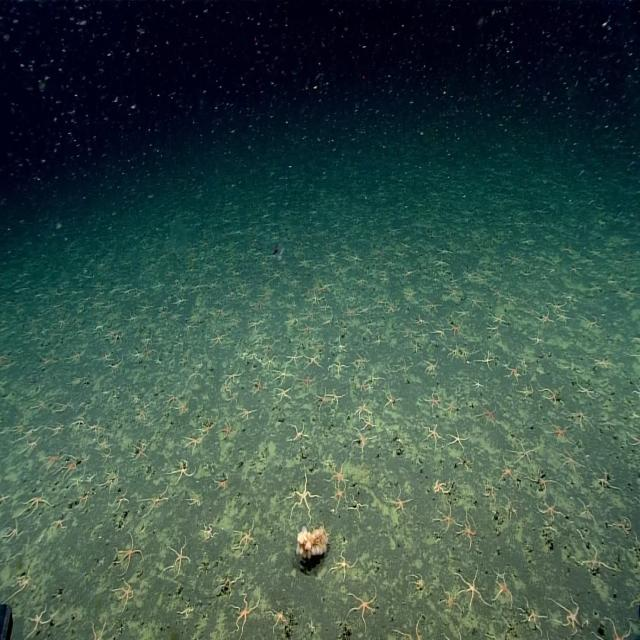brittle-stars: (289, 468, 316, 520), (230, 590, 258, 633), (457, 568, 485, 610), (347, 588, 377, 627), (525, 454, 554, 492), (577, 543, 614, 571), (552, 597, 582, 631), (165, 539, 191, 578), (115, 534, 142, 571), (232, 520, 258, 558), (144, 484, 168, 518), (331, 550, 357, 581), (113, 574, 136, 608), (434, 504, 458, 536), (440, 584, 462, 617), (28, 601, 50, 633), (494, 571, 514, 606), (23, 491, 51, 515), (388, 487, 411, 516), (458, 515, 478, 548), (173, 455, 194, 484), (560, 447, 580, 476), (538, 384, 562, 408), (538, 498, 563, 521), (433, 473, 455, 499), (571, 409, 597, 431), (61, 457, 81, 484), (267, 603, 287, 630), (12, 569, 31, 597), (290, 419, 312, 443), (591, 468, 613, 492), (350, 431, 375, 452), (330, 456, 347, 486), (326, 386, 348, 409), (547, 295, 569, 317), (546, 418, 568, 440), (497, 458, 516, 483), (19, 422, 42, 442), (131, 438, 150, 462), (423, 390, 442, 414), (448, 428, 468, 450), (479, 403, 498, 426), (578, 497, 596, 521), (576, 380, 596, 401), (333, 484, 349, 509), (383, 388, 398, 414), (52, 514, 70, 535), (185, 433, 203, 454), (275, 362, 293, 383), (329, 358, 348, 377), (202, 520, 217, 544), (250, 376, 268, 396), (505, 363, 522, 384), (213, 471, 230, 492), (426, 426, 442, 448), (478, 348, 494, 370), (199, 415, 215, 436), (262, 351, 278, 372), (304, 351, 320, 372), (354, 350, 369, 372), (238, 404, 256, 422), (424, 357, 439, 378), (102, 472, 120, 489), (353, 400, 369, 419), (333, 334, 348, 354), (518, 384, 535, 401), (286, 348, 302, 366), (276, 386, 292, 404), (212, 330, 226, 350), (226, 366, 241, 384), (444, 399, 458, 418), (448, 319, 462, 338), (176, 398, 189, 418), (86, 418, 102, 434), (490, 310, 506, 326), (70, 415, 86, 430), (316, 389, 329, 407), (222, 418, 232, 441), (320, 278, 334, 294), (164, 389, 177, 406), (300, 322, 315, 336), (101, 449, 115, 463), (472, 377, 486, 391), (300, 373, 312, 389), (248, 347, 259, 364), (357, 379, 370, 392), (99, 435, 108, 450)
